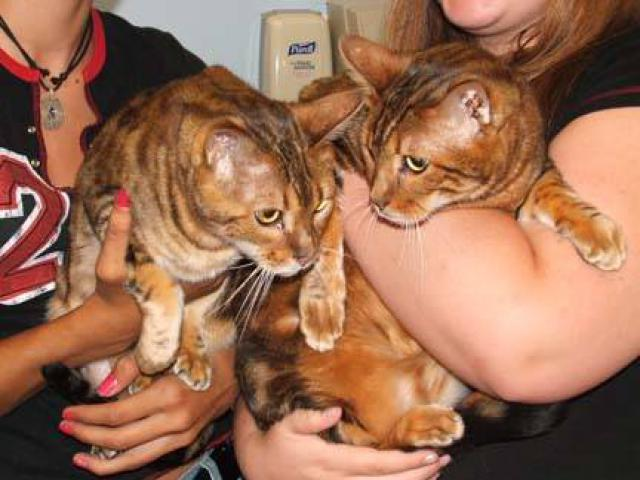cat: (303, 22, 622, 455), (60, 50, 327, 444)
